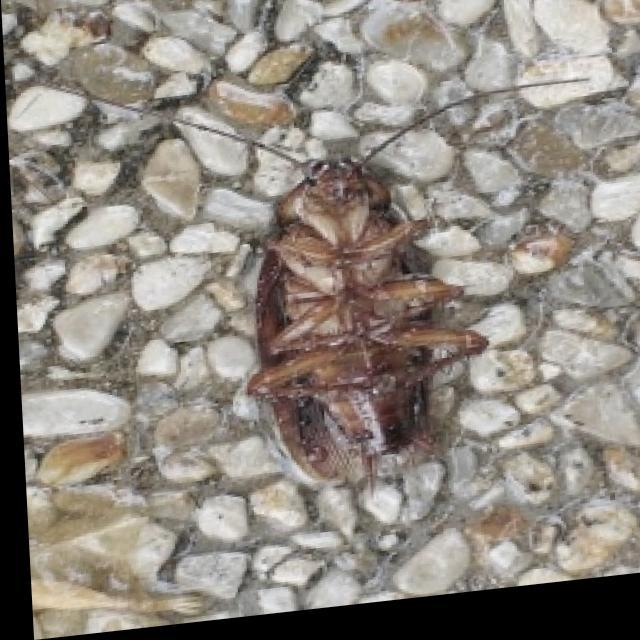cockroach: (213, 99, 498, 514)
